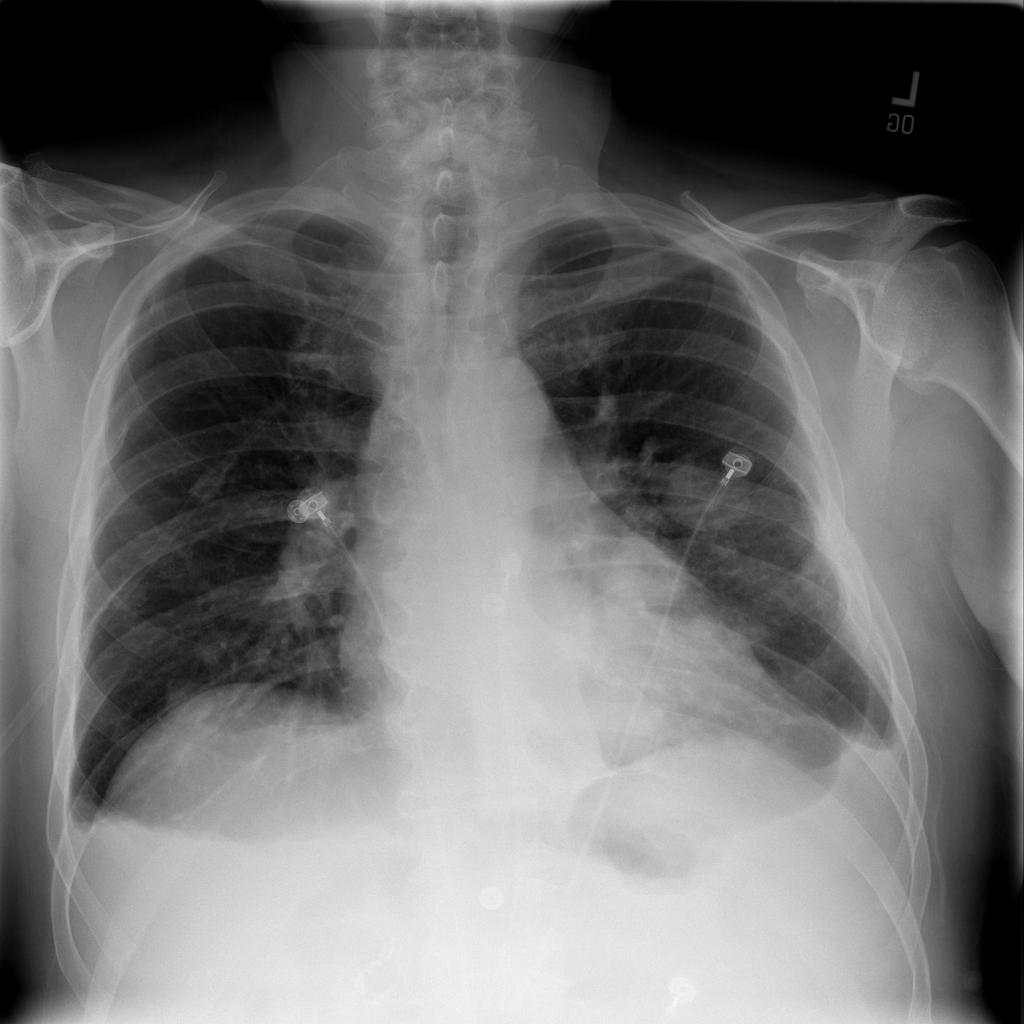nodule: (572, 516, 700, 623), (649, 443, 769, 551), (150, 655, 230, 725)
